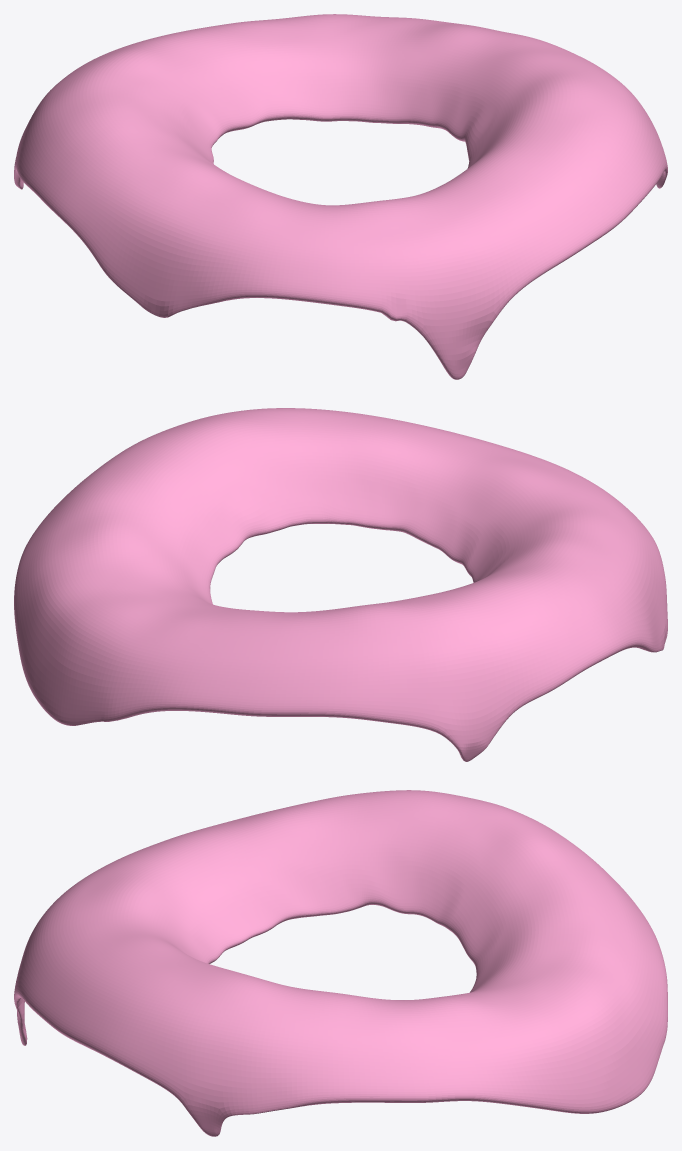
File: IceV2.fbx
The picture shows the model from 3 angles, top to bottom: view 1: azimuth 30°, elevation 25°; view 2: azimuth 150°, elevation 25°; view 3: azimuth 270°, elevation 25°; orthographic projection. The views are drawn at different scales.
Visible parts, largest first — view 1: Ice; view 2: Ice; view 3: Ice.
Part boxes in pixels (bbox=[...]): Ice: bbox=[14, 14, 667, 379]; Ice: bbox=[14, 408, 667, 761]; Ice: bbox=[14, 790, 667, 1136].
Size of the model in its own units: 28169 by 8122 by 28344.
